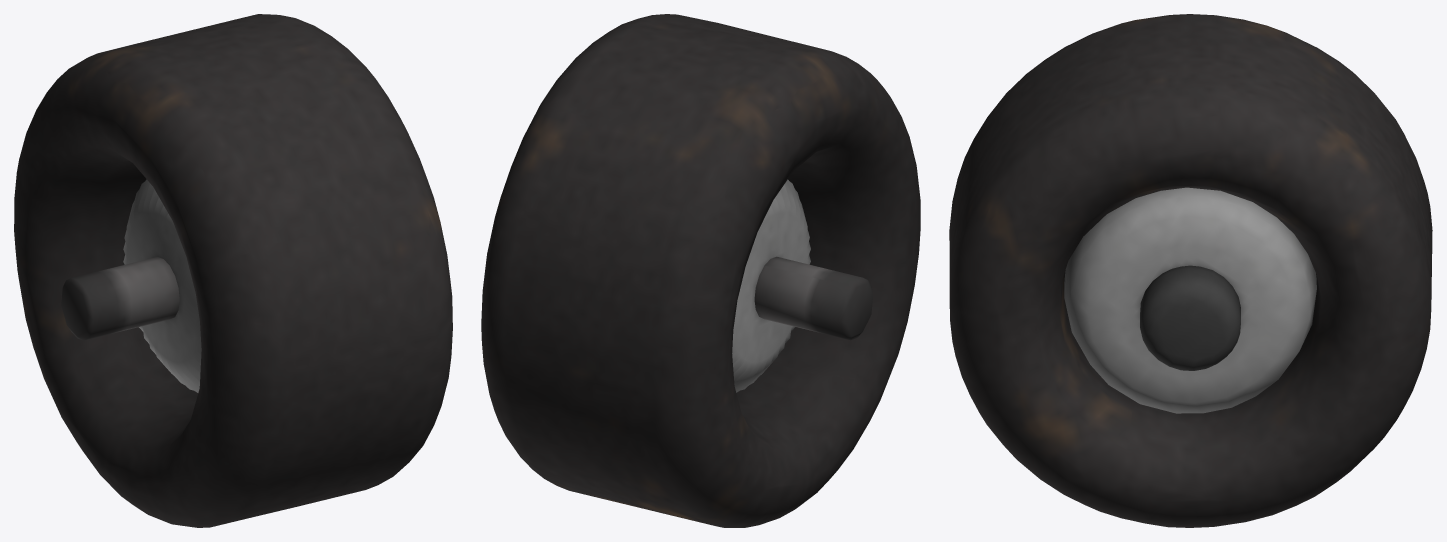
3 views of the same model, side by side, from view 1: azimuth 30°, elevation 25°; view 2: azimuth 150°, elevation 25°; view 3: azimuth 270°, elevation 25° (orthographic).
Parts seen in each view (by area): view 1: wheel_FL; view 2: wheel_FL; view 3: wheel_FL.
Part boxes in pixels (left/top/right/bottom): wheel_FL: left=14, top=14, right=452, bottom=527; wheel_FL: left=481, top=14, right=920, bottom=527; wheel_FL: left=949, top=14, right=1432, bottom=527.
Size of the model in its own units: 0.1812 by 0.2694 by 0.2694.
Materials: 1 (1 with a texture image).
